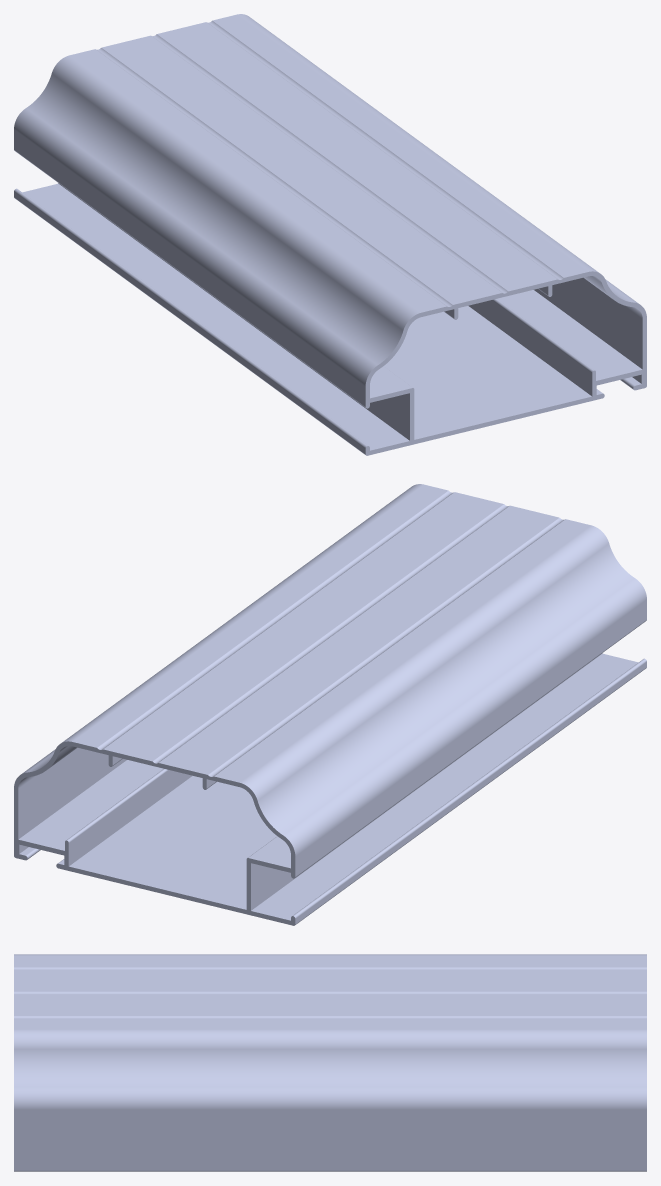
3 renders of one model, top to bottom at view 1: azimuth 30°, elevation 25°; view 2: azimuth 150°, elevation 25°; view 3: azimuth 270°, elevation 25°, orthographic. The views are drawn at different scales.
Visible parts, largest first — view 1: IF 587; view 2: IF 587; view 3: IF 587.
Part boxes in pixels (bbox=[...]): IF 587: bbox=[14, 14, 646, 455]; IF 587: bbox=[14, 484, 646, 925]; IF 587: bbox=[14, 954, 646, 1171].
Bounding box in the file's own units: 4.62 × 2.04 × 10.
